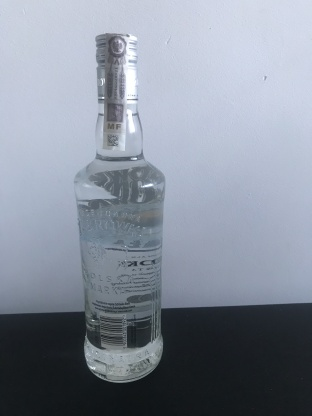nakretka: (92, 28, 141, 107)
